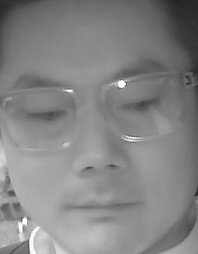eye: (25, 102, 66, 128), (119, 95, 159, 117)
glass: (99, 69, 183, 142), (2, 84, 78, 151)
mouth: (58, 180, 148, 229)
